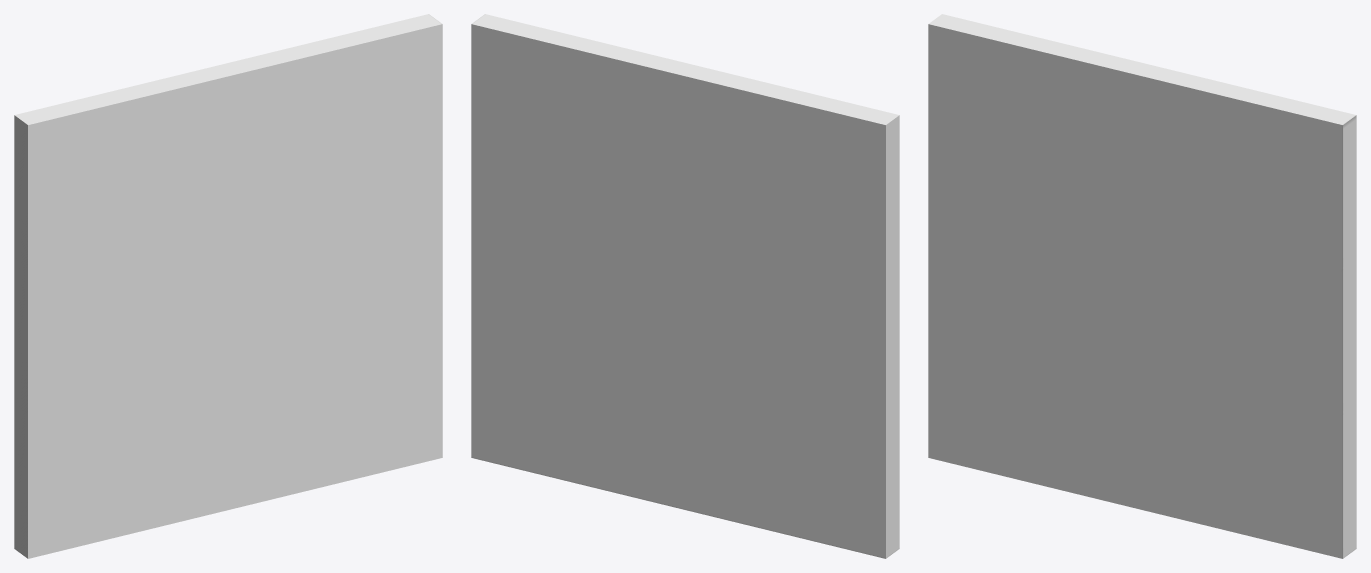
Rendered from wall01.fbx.
3 renders of one model, left to right at view 1: azimuth 30°, elevation 25°; view 2: azimuth 150°, elevation 25°; view 3: azimuth 330°, elevation 25°, orthographic.
Visible parts, largest first — view 1: Wall_7; view 2: Wall_7; view 3: Wall_7.
Boxes of the visible parts, box(x1,y1,x2,y2) form: Wall_7: box(14, 14, 442, 558); Wall_7: box(471, 14, 899, 558); Wall_7: box(928, 14, 1356, 558).
Bounding box in the file's own units: 425 × 425 × 24.51.
